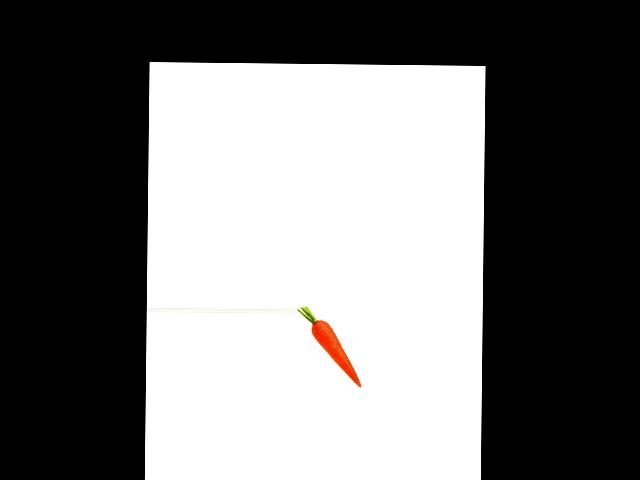carrot: (309, 315, 364, 388)
